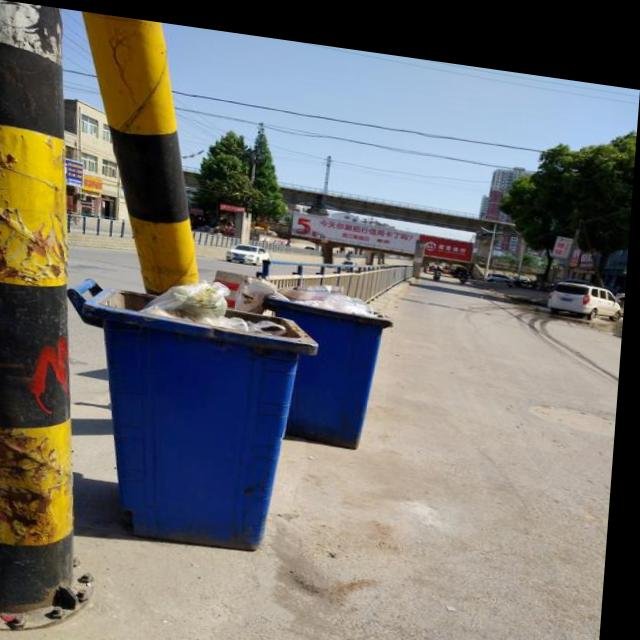overflow: (54, 257, 321, 547), (262, 267, 397, 440)
